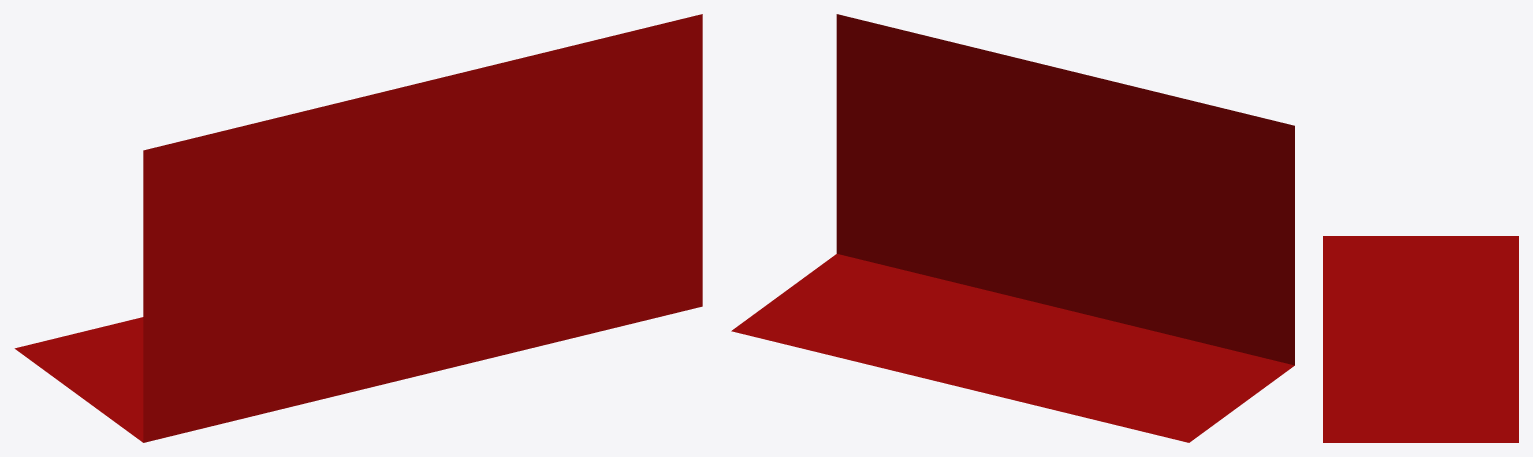
Rendered from SupportRoof2M.fbx.
3 renders of one model, left to right at view 1: azimuth 30°, elevation 25°; view 2: azimuth 150°, elevation 25°; view 3: azimuth 270°, elevation 25°, orthographic. The views are drawn at different scales.
Visible parts, largest first — view 1: SupportRoof2M; view 2: SupportRoof2M; view 3: SupportRoof2M.
Boxes of the visible parts, box(x1,y1,x2,y2) form: SupportRoof2M: box(14, 14, 702, 442); SupportRoof2M: box(731, 14, 1294, 442); SupportRoof2M: box(1323, 236, 1518, 442).
Size of the model in its own units: 200 by 100 by 80.
